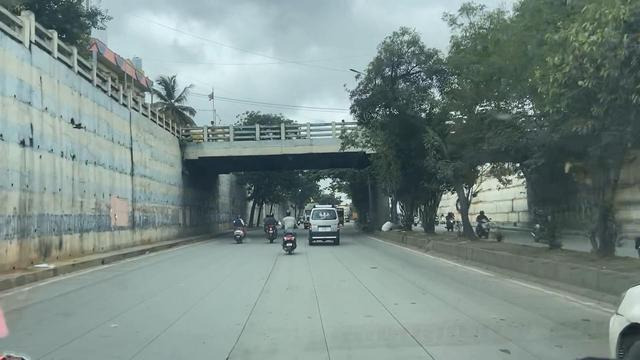LMV: (307, 205, 344, 248), (272, 206, 300, 252)
